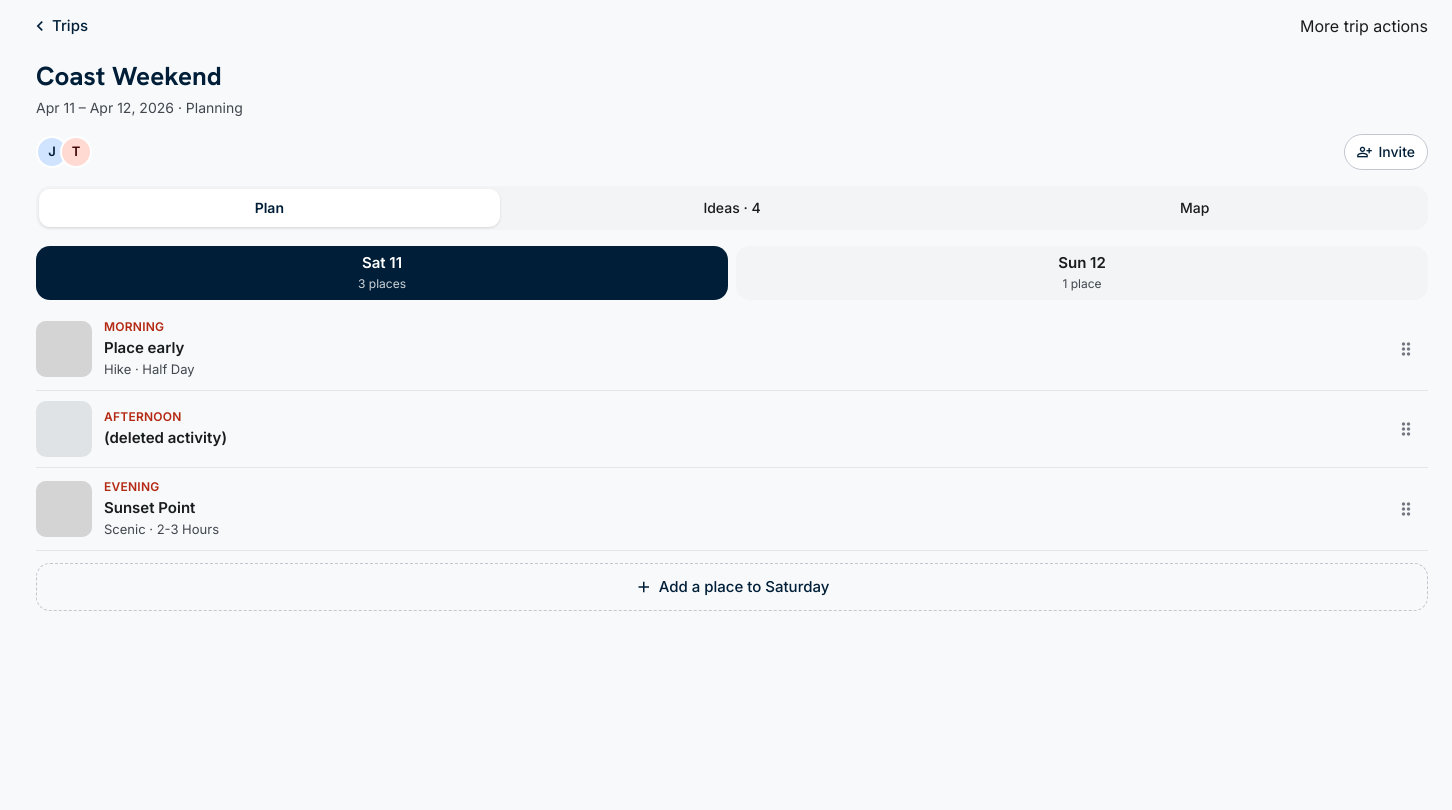
Test case: a trip’s page on a phone (#294) › switches between the plan, the ideas with their count, and the map
The image size is (1452, 810).
Click the button "Ideas · 4".
click(732, 208)  # box [502,188,962,226]
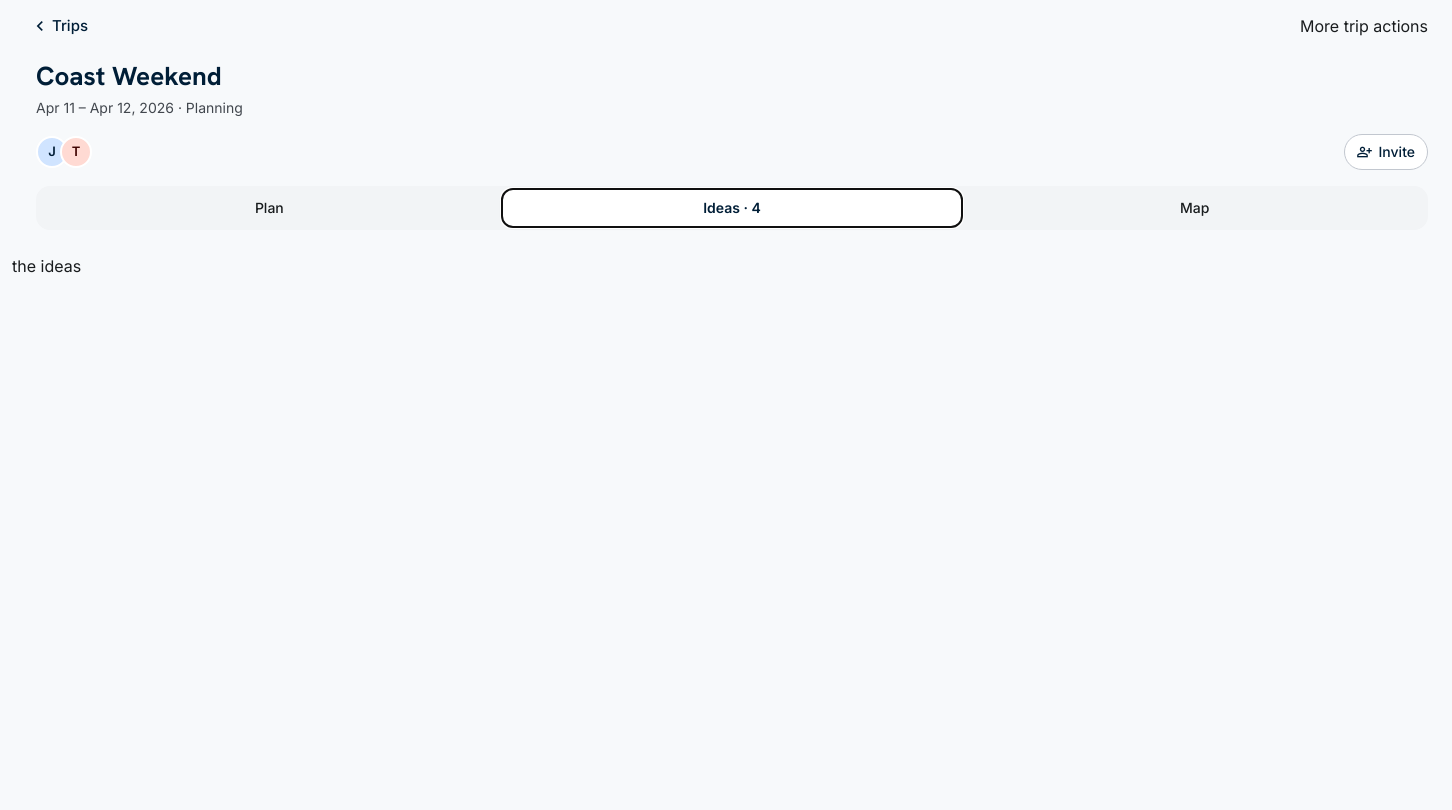
Check: the text "the ideas" is shown, box [12,256,81,276]
Click the button "Map".
click(1195, 208)  # box [964,188,1425,226]
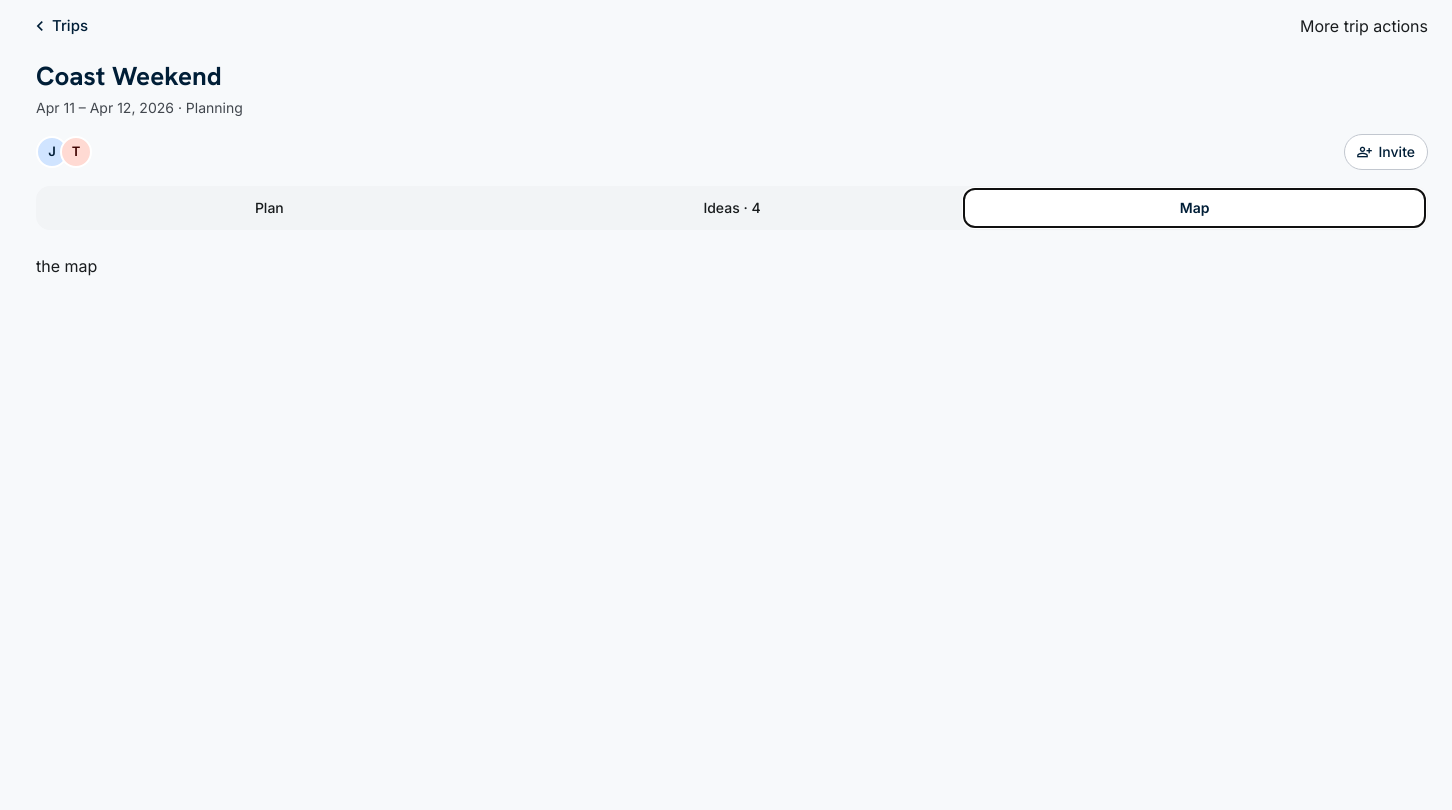
Check: the text "the map" is shown, box [36,256,97,276]
